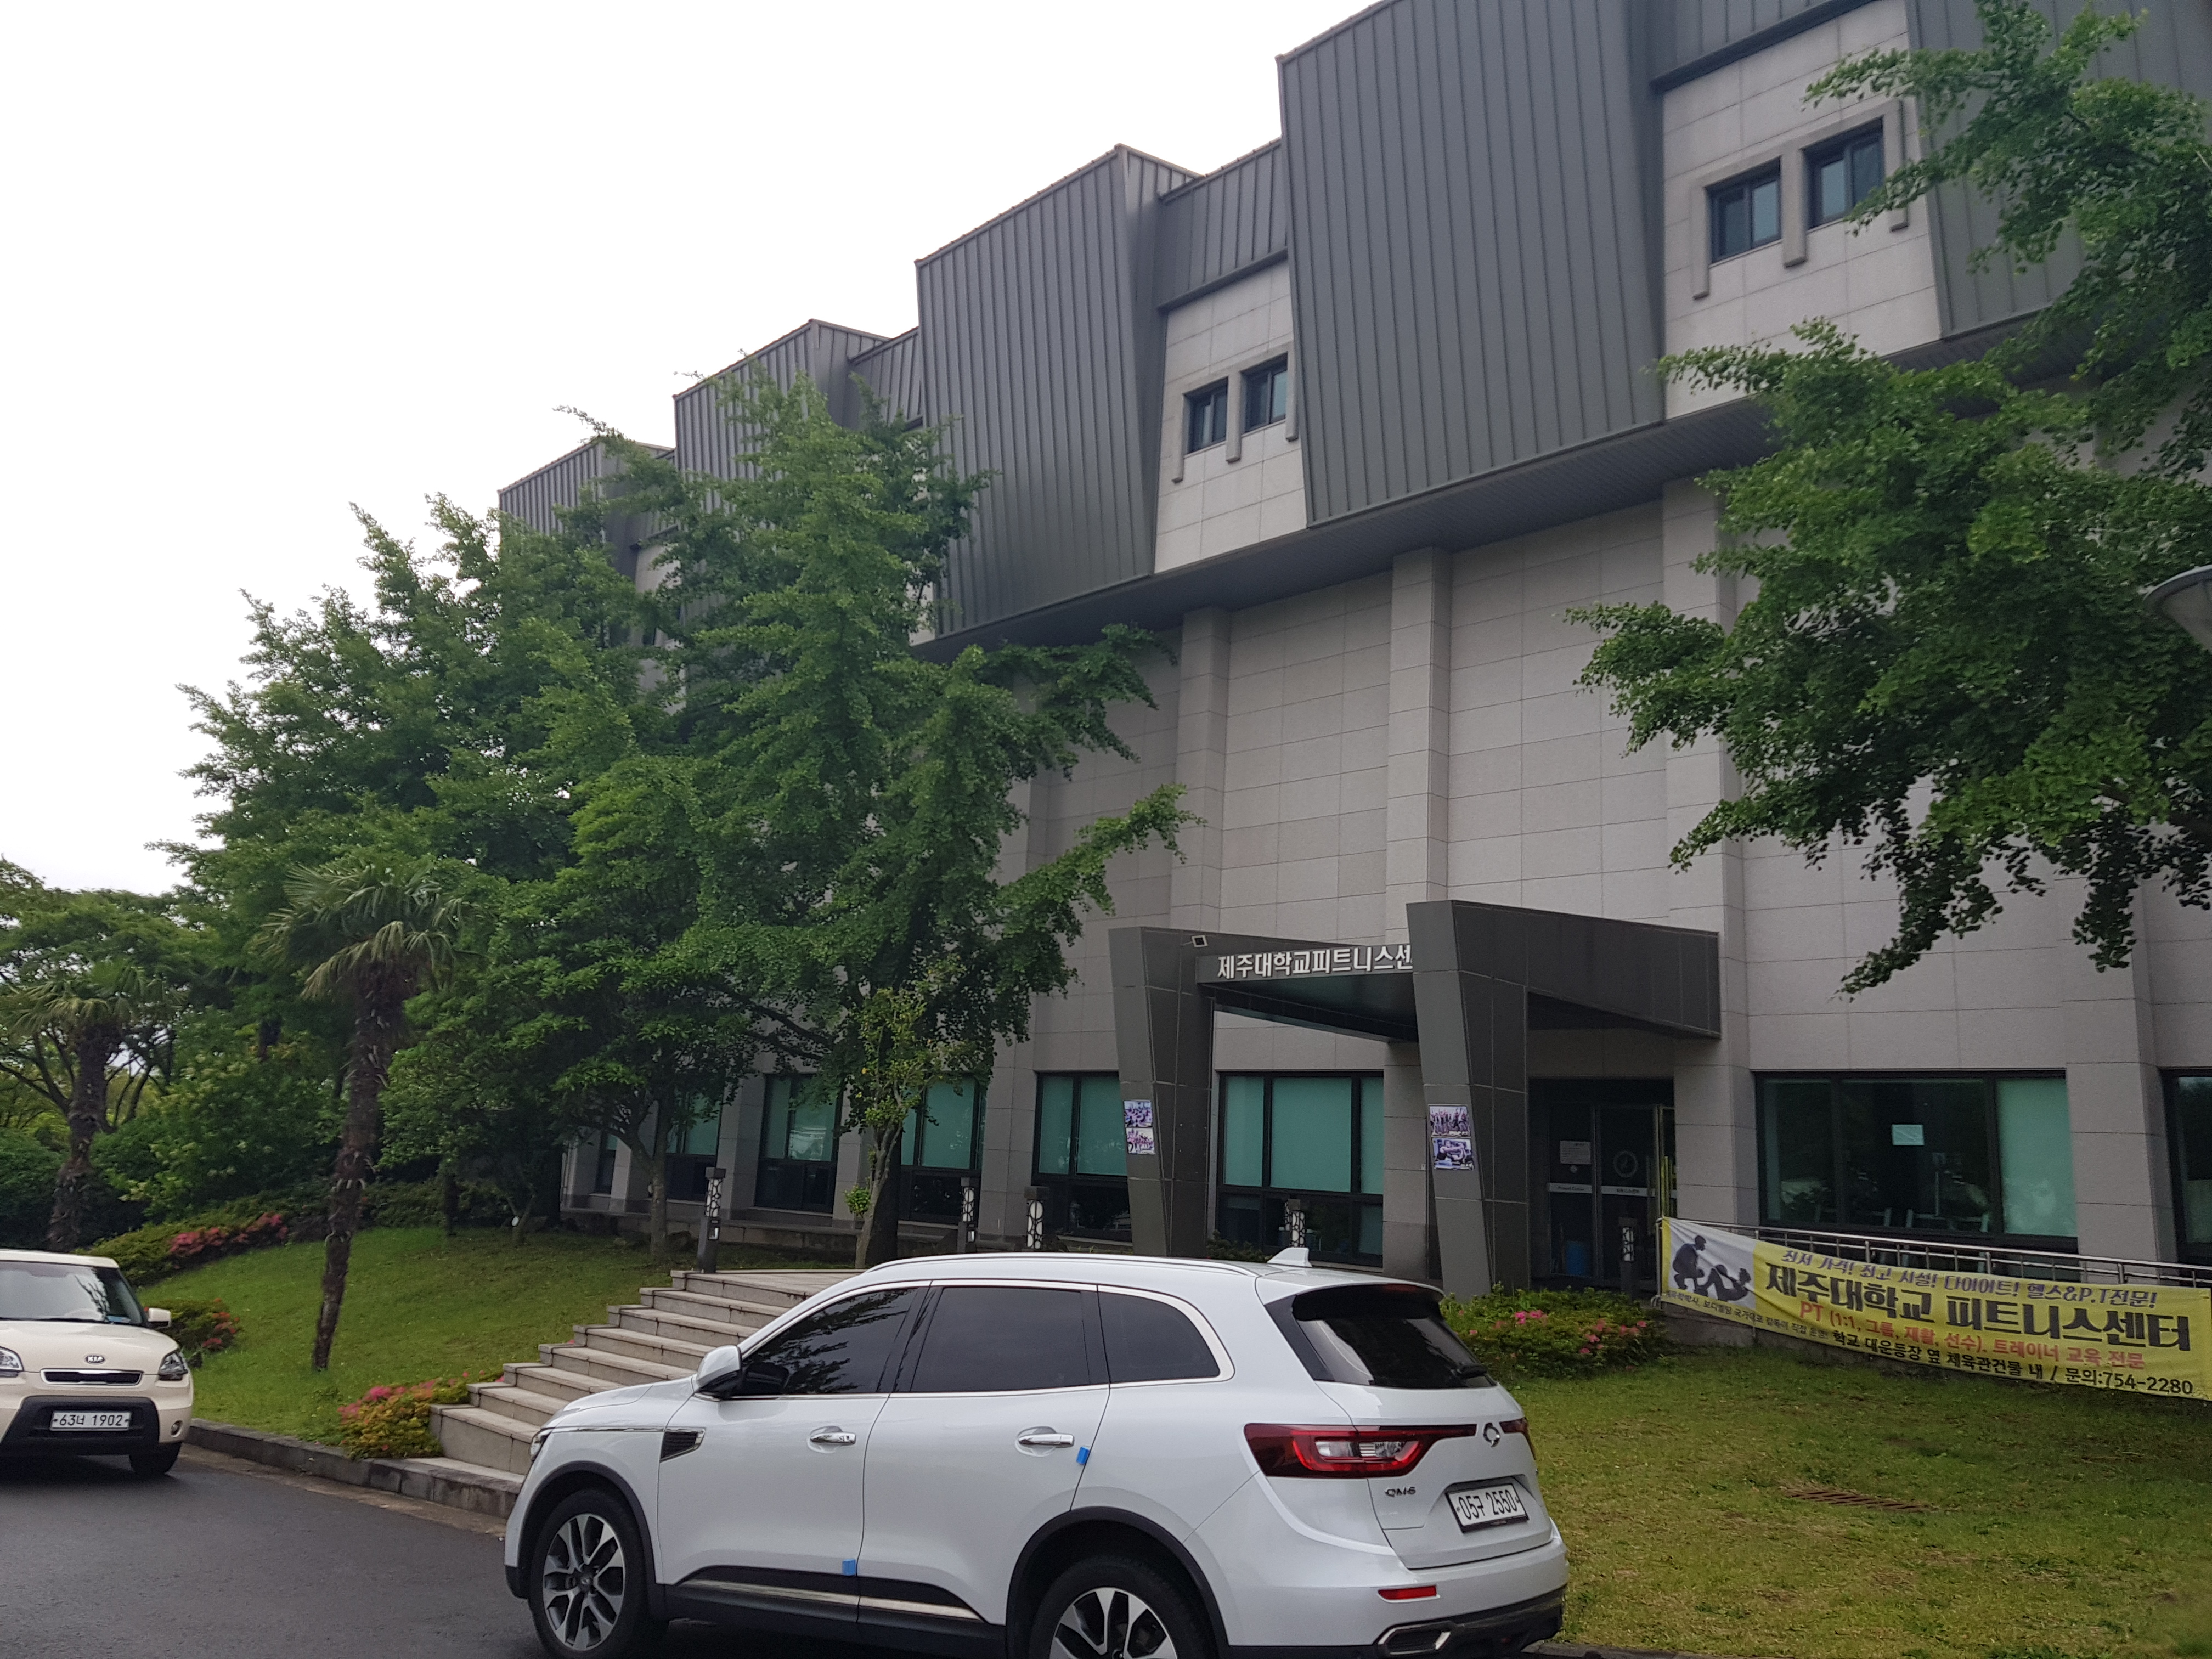Gym: (491, 56, 2188, 1281), (716, 138, 2151, 479), (1085, 866, 1703, 1243)
